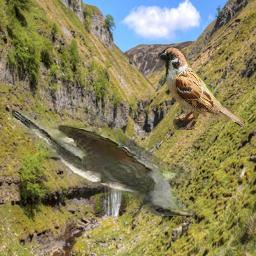Cuckoo: (13, 112, 198, 217)
Sparrow: (158, 46, 244, 130)
